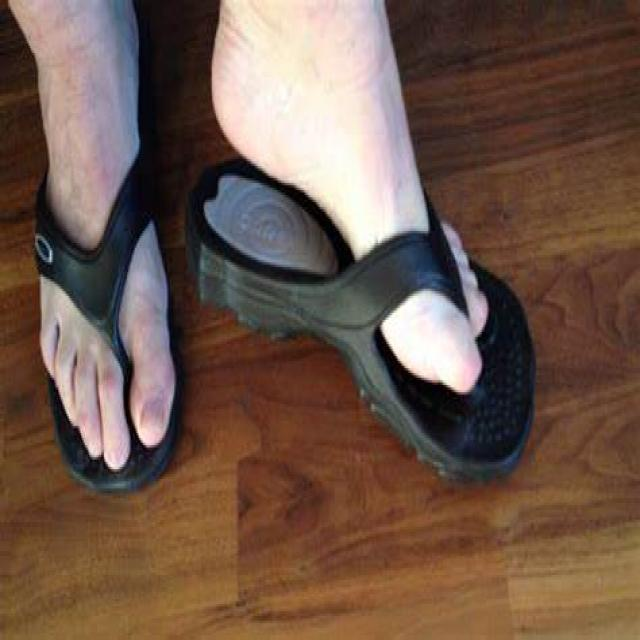No_Shoe: (168, 46, 517, 559), (31, 56, 189, 498)
